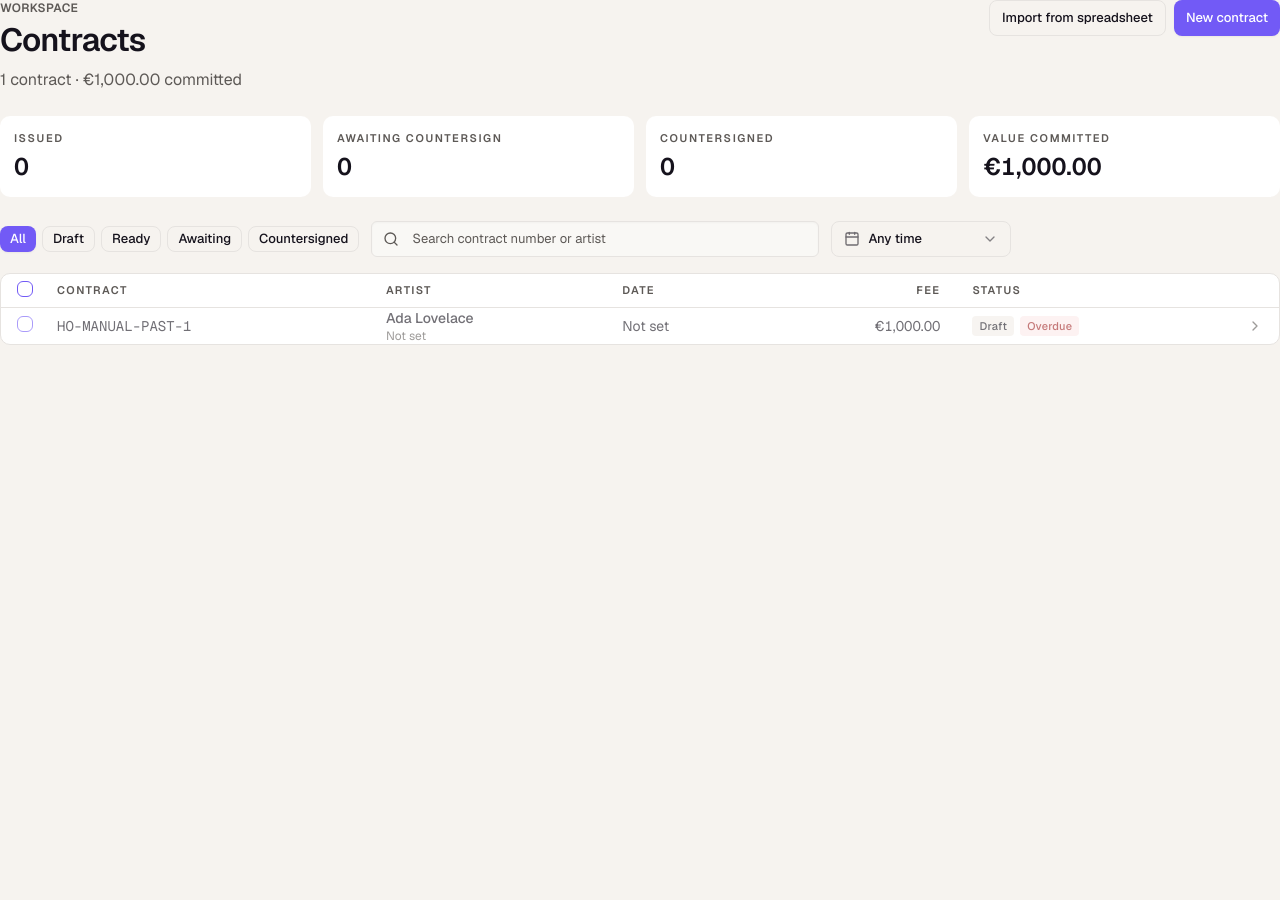
HireOrdersPage › timeframe filter (Plan B fix wave: defaults to All time, not Upcoming) › keeps a past manual (no linked show_date) order clickable under the default All-time filter
The width and height of the screenshot is (1280, 900).
Click the text "HO-MANUAL-PAST-1" at (124, 326), box [57,317,191,335]
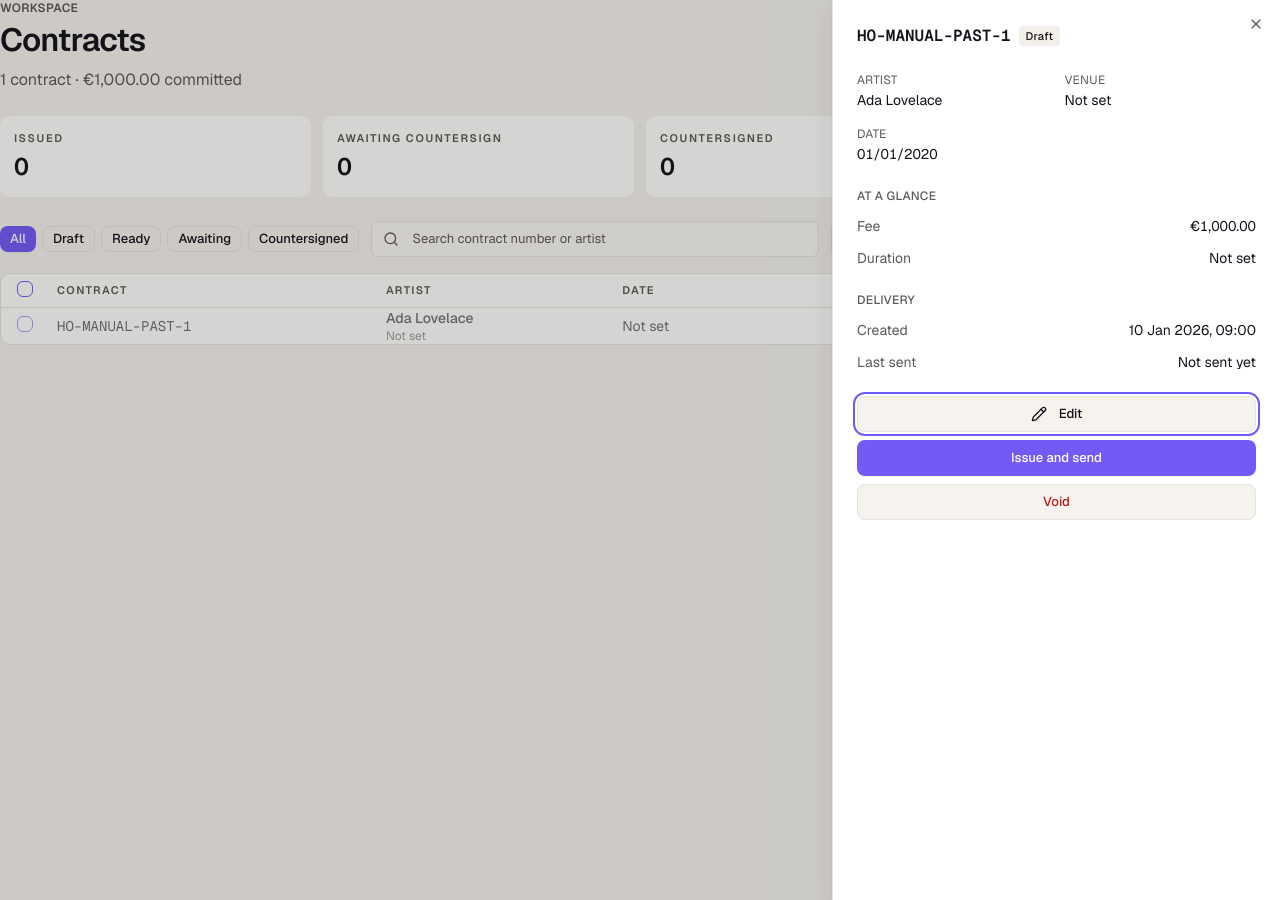
Check: the dialog is shown, box [832,0,1279,899]
